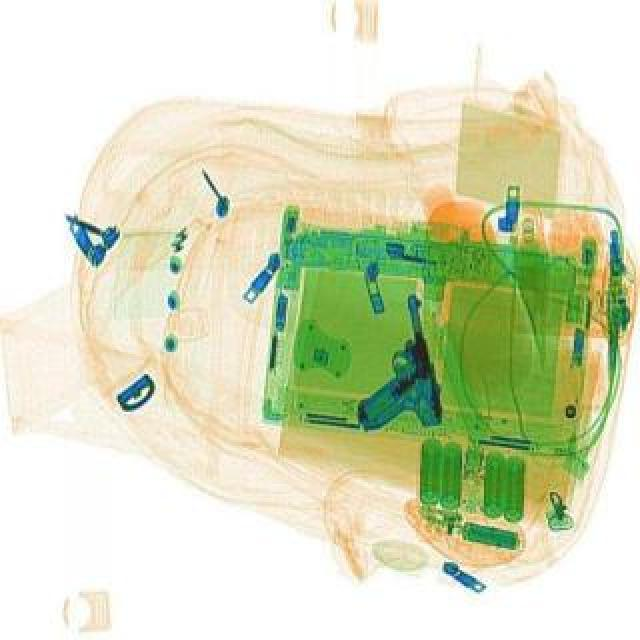gun: (332, 290, 452, 438)
